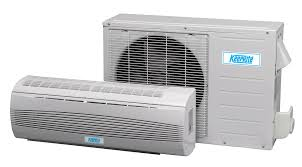AC: (12, 88, 195, 139)
